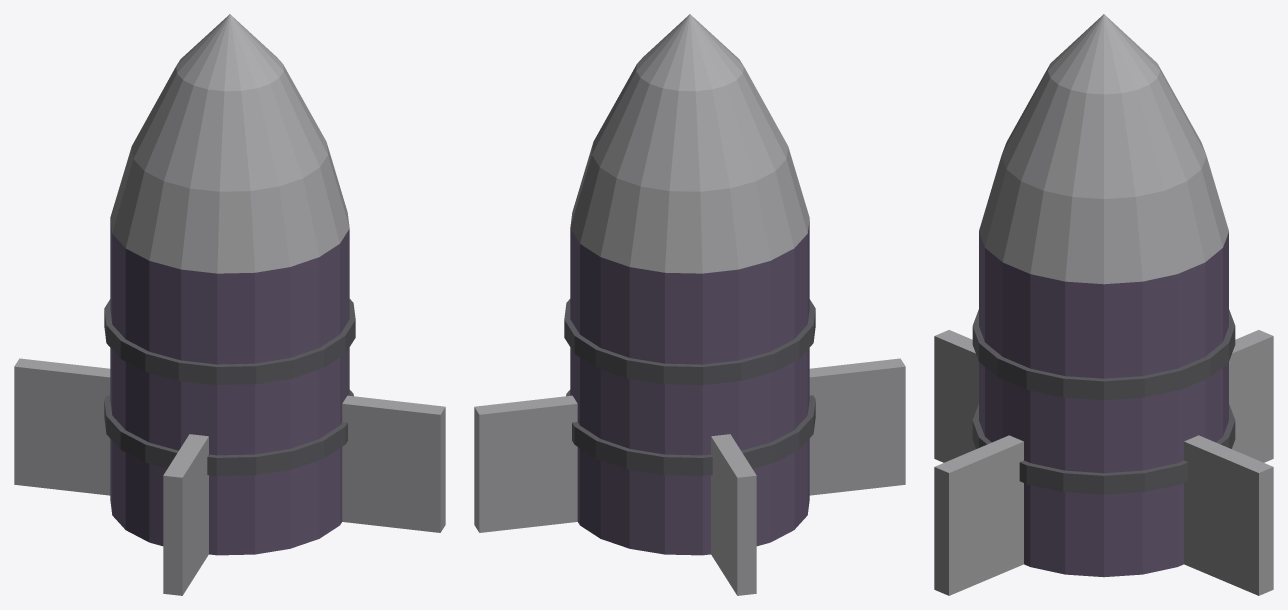
File: vge_warpod_incendiary.obj
3 views of the same model, side by side, from view 1: azimuth 30°, elevation 25°; view 2: azimuth 150°, elevation 25°; view 3: azimuth 270°, elevation 25° (orthographic). The views are drawn at different scales.
Parts seen in each view (by area): view 1: vge_warpod_incendiary_0, vge_warpod_incendiary_3, vge_warpod_incendiary_7, vge_warpod_incendiary_5, vge_warpod_incendiary_6, vge_warpod_incendiary_2, vge_warpod_incendiary_1; view 2: vge_warpod_incendiary_0, vge_warpod_incendiary_3, vge_warpod_incendiary_4, vge_warpod_incendiary_6, vge_warpod_incendiary_5, vge_warpod_incendiary_2, vge_warpod_incendiary_1; view 3: vge_warpod_incendiary_0, vge_warpod_incendiary_3, vge_warpod_incendiary_4, vge_warpod_incendiary_7, vge_warpod_incendiary_2, vge_warpod_incendiary_5, vge_warpod_incendiary_6, vge_warpod_incendiary_1.
Part boxes in pixels (bbox=[...]): vge_warpod_incendiary_0: bbox=[110, 219, 349, 555]; vge_warpod_incendiary_3: bbox=[110, 14, 349, 273]; vge_warpod_incendiary_7: bbox=[342, 395, 445, 532]; vge_warpod_incendiary_5: bbox=[14, 358, 110, 495]; vge_warpod_incendiary_6: bbox=[163, 434, 208, 595]; vge_warpod_incendiary_2: bbox=[104, 299, 355, 385]; vge_warpod_incendiary_1: bbox=[104, 390, 353, 475]; vge_warpod_incendiary_0: bbox=[570, 219, 809, 555]; vge_warpod_incendiary_3: bbox=[570, 14, 809, 273]; vge_warpod_incendiary_4: bbox=[474, 395, 577, 532]; vge_warpod_incendiary_6: bbox=[809, 358, 905, 495]; vge_warpod_incendiary_5: bbox=[711, 434, 756, 595]; vge_warpod_incendiary_2: bbox=[564, 299, 815, 385]; vge_warpod_incendiary_1: bbox=[566, 390, 815, 475]; vge_warpod_incendiary_0: bbox=[979, 232, 1228, 577]; vge_warpod_incendiary_3: bbox=[979, 14, 1228, 284]; vge_warpod_incendiary_4: bbox=[1184, 435, 1273, 595]; vge_warpod_incendiary_7: bbox=[934, 435, 1023, 595]; vge_warpod_incendiary_2: bbox=[972, 309, 1235, 400]; vge_warpod_incendiary_5: bbox=[1229, 330, 1273, 462]; vge_warpod_incendiary_6: bbox=[934, 330, 978, 462]; vge_warpod_incendiary_1: bbox=[972, 404, 1235, 494].
Bounding box in the file's own units: 0.6506 × 1.08 × 0.6506.
